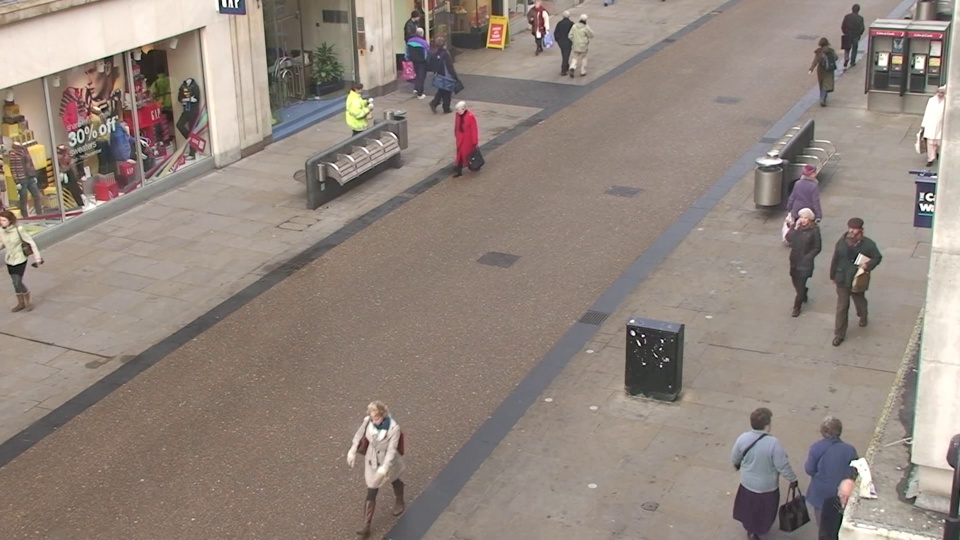pedestrian: (795, 405, 859, 540), (353, 392, 411, 540), (726, 397, 786, 540), (827, 213, 875, 336), (780, 203, 824, 323), (785, 158, 826, 266), (447, 98, 478, 189), (344, 77, 375, 161), (805, 35, 836, 111), (837, 2, 868, 72), (431, 37, 457, 111), (427, 34, 453, 106), (407, 25, 433, 95), (406, 8, 430, 73), (572, 11, 595, 78), (555, 6, 578, 71)
